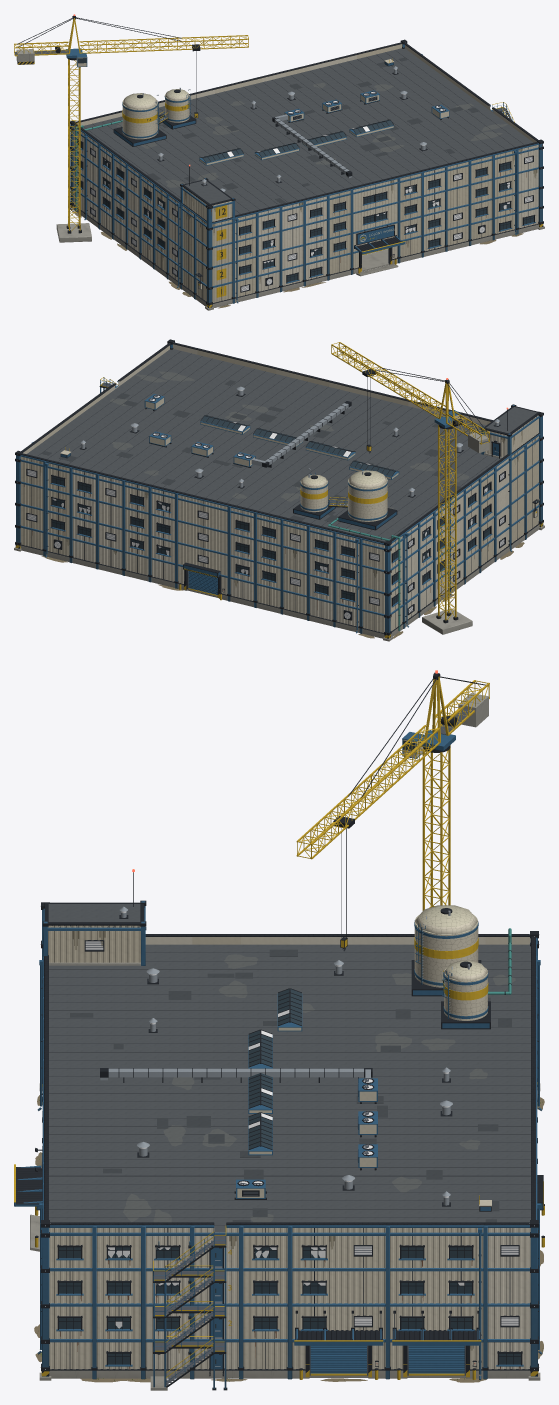
File: warehouse_large.glb
The picture shows the model from 3 angles, top to bottom: view 1: azimuth 30°, elevation 25°; view 2: azimuth 150°, elevation 25°; view 3: azimuth 270°, elevation 25°; orthographic projection. The views are drawn at different scales.
Parts seen in each view (by area): view 1: warehouse_large.001; view 2: warehouse_large.001; view 3: warehouse_large.001.
Boxes of the visible parts, x1,y1,x2,y2 form: warehouse_large.001: (14, 14, 544, 310); warehouse_large.001: (14, 339, 544, 641); warehouse_large.001: (14, 670, 544, 1390).
Size of what is drawn, in the model's own units: 89.08 by 44.92 by 54.31.
Materials: 49 (46 with a texture image).
